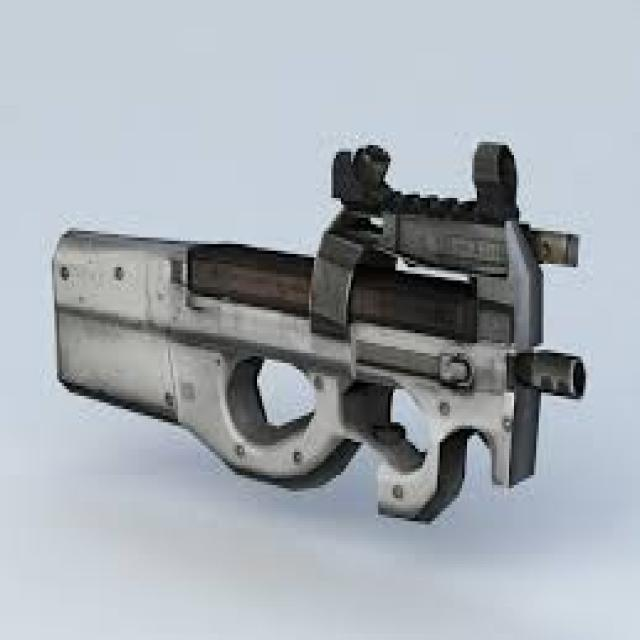Gun: (47, 112, 640, 538)
